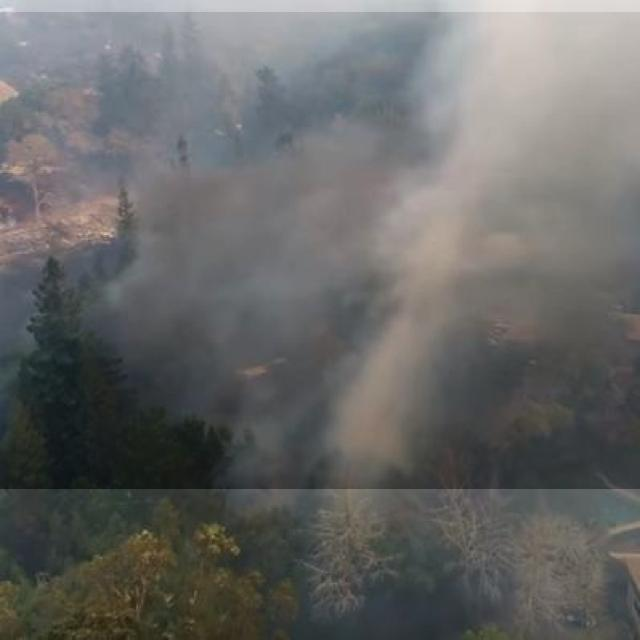Smoke: (0, 12, 640, 489)
